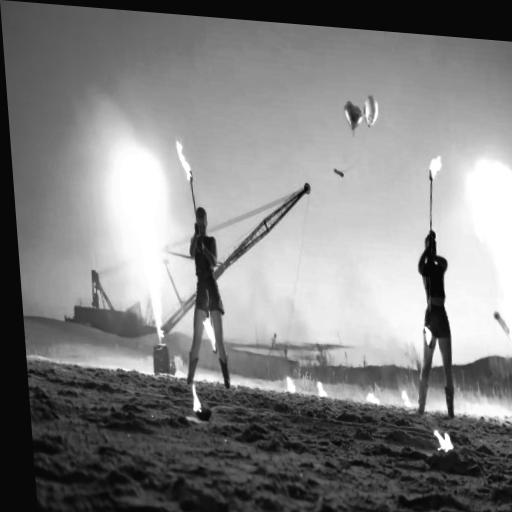balloon: (344, 100, 362, 131), (362, 97, 380, 127)
